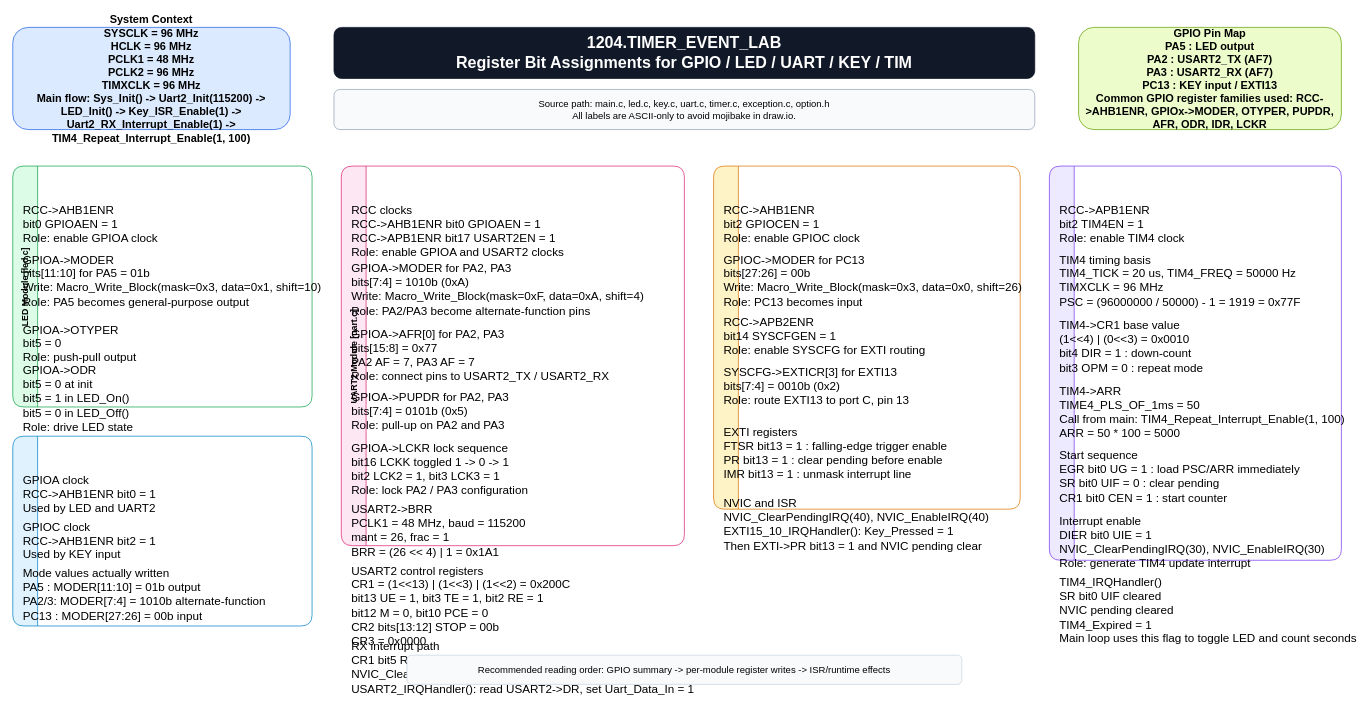
Some shapes in this 1369 by 717 pixel diagram are drawn without their labels. The shapes that lost their labels are listed below. From the top down, each one's box as (x1, y1, x2, y2) in pixels, then its label:
(713, 165, 1020, 509): KEY + EXTI Module [key.c / exception.c]
(1049, 165, 1341, 560): TIM4 Repeat Interrupt Module [timer.c / exception.c]
(12, 435, 312, 626): GPIO Summary by Register Write
